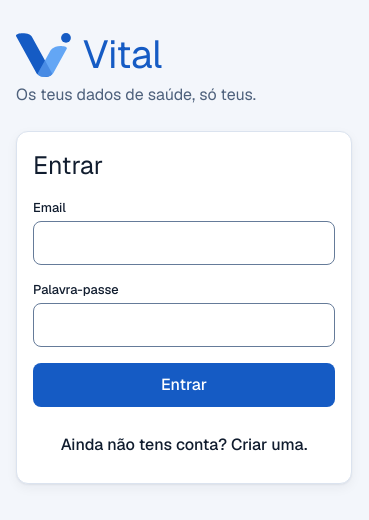
Scenario: Login › reports invalid credentials next to the form
The image size is (369, 520).
In the field labelled "Email": (184, 243) [33,221,335,265], type "ana@example.com"
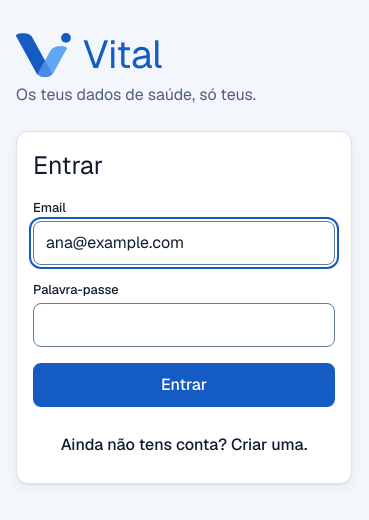
In the password field labelled "Palavra-passe": (184, 325) [33,303,335,347], type "errada"
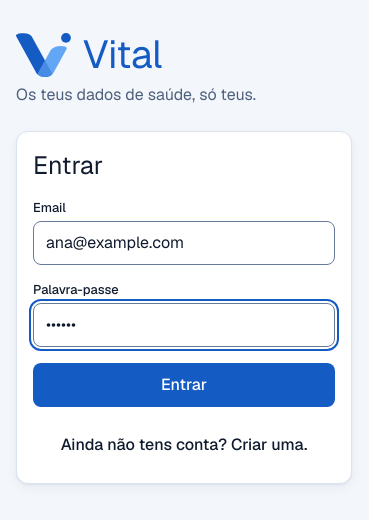
Click the button "Entrar": (184, 385) [33,363,335,407]
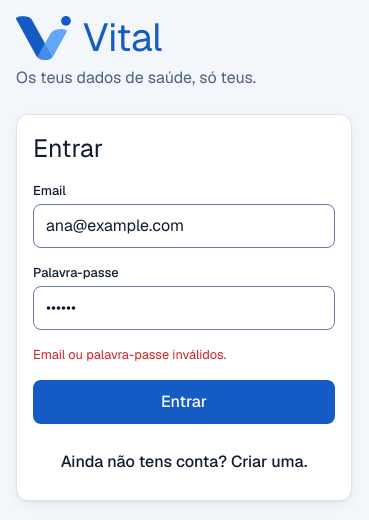
expect the message reads "Email ou palavra-passe inválidos.": met, box [33,346,226,363]
